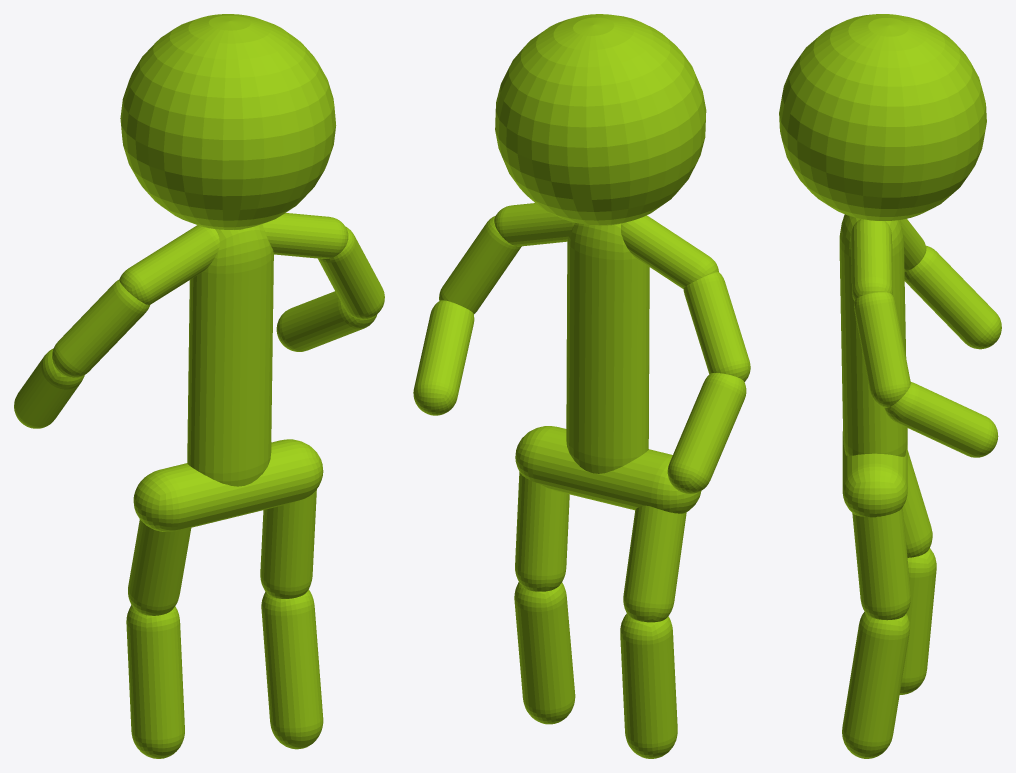
File: Stickman_000022.obj
The picture shows the model from 3 angles, left to right: view 1: azimuth 30°, elevation 25°; view 2: azimuth 150°, elevation 25°; view 3: azimuth 270°, elevation 25°; orthographic projection. The views are drawn at different scales.
Parts seen in each view (by area): view 1: Head_Sphere.001, Body_Roundcube.002, Hip_Roundcube.005, LowerLegLeft_Roundcube.013, LowerLegRight_Roundcube.011, UpperLegLeft_Roundcube.012, UpperArmRight_Roundcube.015, UpperLegRight_Roundcube.010, ShoulderRight_Roundcube.014, LowerArmLeft_Roundcube.019, ShoulderLeft_Roundcube.017, UpperArmLeft_Roundcube.018 (+1 smaller); view 2: Head_Sphere.001, Body_Roundcube.002, Hip_Roundcube.005, LowerLegRight_Roundcube.011, LowerLegLeft_Roundcube.013, UpperLegRight_Roundcube.010, LowerArmRight_Roundcube.016, UpperLegLeft_Roundcube.012, LowerArmLeft_Roundcube.019, UpperArmRight_Roundcube.015, ShoulderRight_Roundcube.014, UpperArmLeft_Roundcube.018 (+1 smaller); view 3: Head_Sphere.001, Body_Roundcube.002, LowerLegLeft_Roundcube.013, UpperLegLeft_Roundcube.012, LowerArmRight_Roundcube.016, UpperArmLeft_Roundcube.018, LowerArmLeft_Roundcube.019, Hip_Roundcube.005, LowerLegRight_Roundcube.011, ShoulderLeft_Roundcube.017, UpperLegRight_Roundcube.010, UpperArmRight_Roundcube.015.
Part boxes in pixels (box(x1,y1,x2,y2)): Head_Sphere.001: box(120, 14, 336, 229); Body_Roundcube.002: box(187, 224, 273, 486); Hip_Roundcube.005: box(133, 439, 323, 531); LowerLegLeft_Roundcube.013: box(261, 589, 323, 749); LowerLegRight_Roundcube.011: box(126, 605, 184, 758); UpperLegLeft_Roundcube.012: box(260, 489, 316, 598); UpperArmRight_Roundcube.015: box(52, 279, 149, 377); UpperLegRight_Roundcube.010: box(128, 519, 191, 615); ShoulderRight_Roundcube.014: box(119, 225, 219, 304); LowerArmLeft_Roundcube.019: box(276, 291, 377, 351); ShoulderLeft_Roundcube.017: box(262, 213, 348, 258); UpperArmLeft_Roundcube.018: box(318, 226, 384, 319); Head_Sphere.001: box(495, 14, 706, 225); Body_Roundcube.002: box(566, 222, 649, 473); Hip_Roundcube.005: box(515, 426, 701, 513); LowerLegRight_Roundcube.011: box(620, 613, 677, 758); LowerLegLeft_Roundcube.013: box(514, 582, 575, 724); UpperLegRight_Roundcube.010: box(623, 505, 686, 622); LowerArmRight_Roundcube.016: box(667, 372, 746, 493); UpperLegLeft_Roundcube.012: box(515, 472, 569, 591); LowerArmLeft_Roundcube.019: box(413, 300, 474, 415); UpperArmRight_Roundcube.015: box(683, 272, 750, 381); ShoulderRight_Roundcube.014: box(621, 215, 718, 288); UpperArmLeft_Roundcube.018: box(439, 216, 521, 313); Head_Sphere.001: box(779, 14, 986, 220); Body_Roundcube.002: box(839, 214, 907, 456); LowerLegLeft_Roundcube.013: box(842, 611, 909, 758); UpperLegLeft_Roundcube.012: box(852, 507, 910, 620); LowerArmRight_Roundcube.016: box(904, 245, 1001, 349); UpperArmLeft_Roundcube.018: box(854, 292, 910, 407); LowerArmLeft_Roundcube.019: box(884, 382, 998, 457); Hip_Roundcube.005: box(842, 431, 907, 517); LowerLegRight_Roundcube.011: box(899, 548, 936, 694); ShoulderLeft_Roundcube.017: box(851, 219, 892, 301); UpperLegRight_Roundcube.010: box(902, 450, 932, 557); UpperArmRight_Roundcube.015: box(900, 218, 926, 271).
Size of the model in its own units: 4.97 by 10.73 by 3.07.
